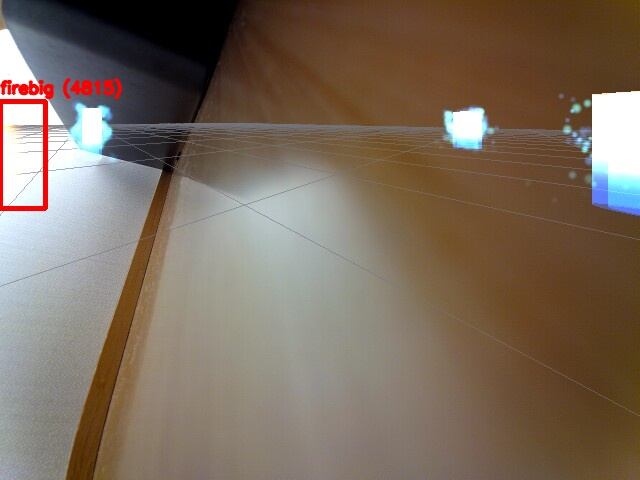firebig: (0, 101, 45, 208)
